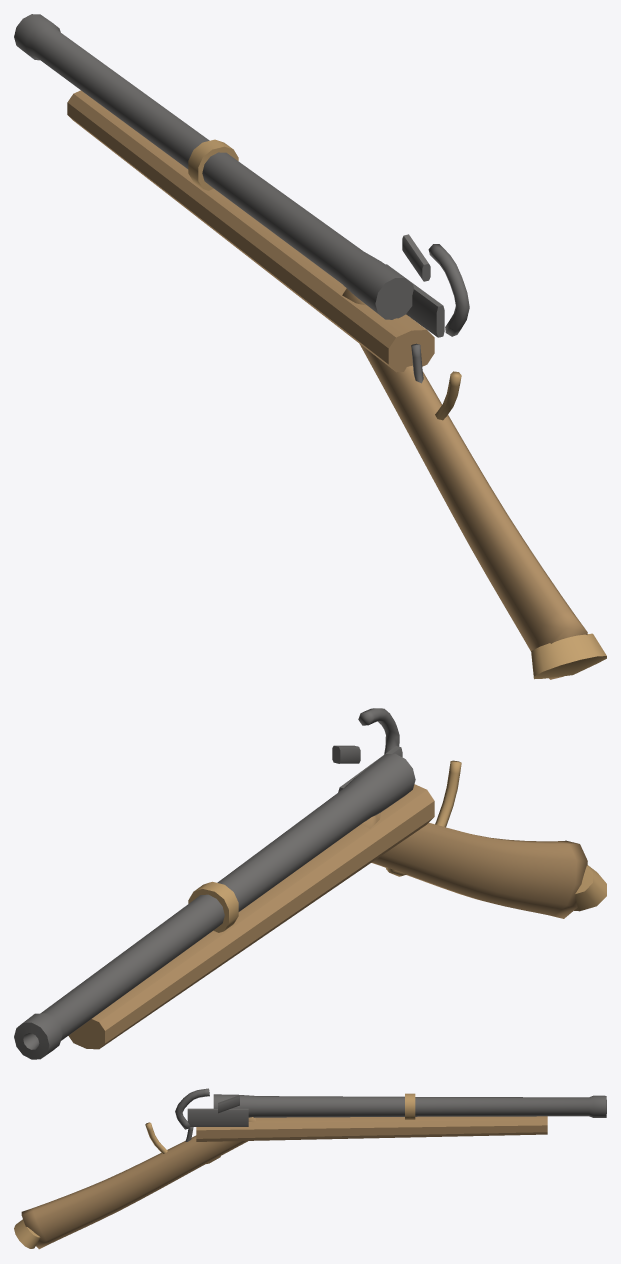
File: dragoon-pistol.glb
3 views of the same model, one above another, from view 1: azimuth 30°, elevation 25°; view 2: azimuth 150°, elevation 25°; view 3: azimuth 270°, elevation 25° (orthographic). The views are drawn at different scales.
Visible parts, largest first — view 1: dragoon-pistol; view 2: dragoon-pistol; view 3: dragoon-pistol.
Boxes of the visible parts, left/top/right/bottom form: dragoon-pistol: left=14, top=14, right=606, bottom=679; dragoon-pistol: left=14, top=708, right=606, bottom=1059; dragoon-pistol: left=14, top=1088, right=606, bottom=1249.
Bounding box in the file's own units: 0.1111 × 0.4247 × 1.36.
